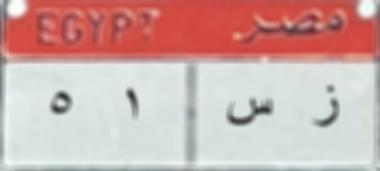1: (117, 82, 150, 127)
5: (41, 79, 91, 131)
seen: (217, 91, 280, 135)
zay: (304, 80, 350, 136)
